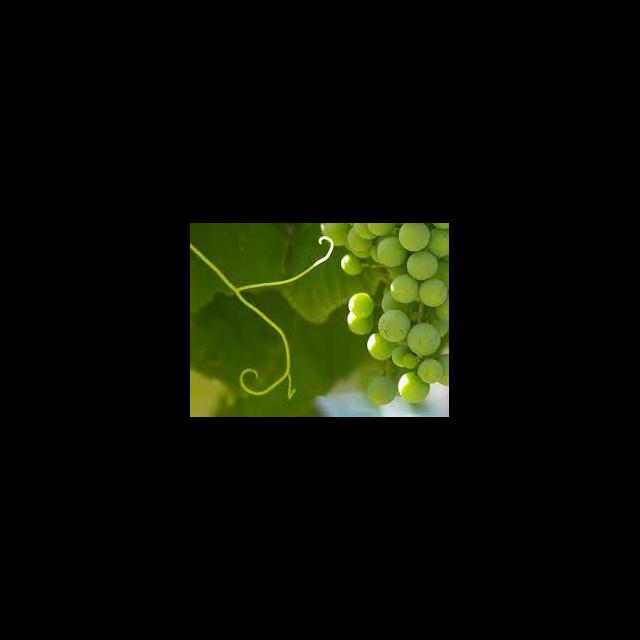grape: (320, 223, 448, 405)
